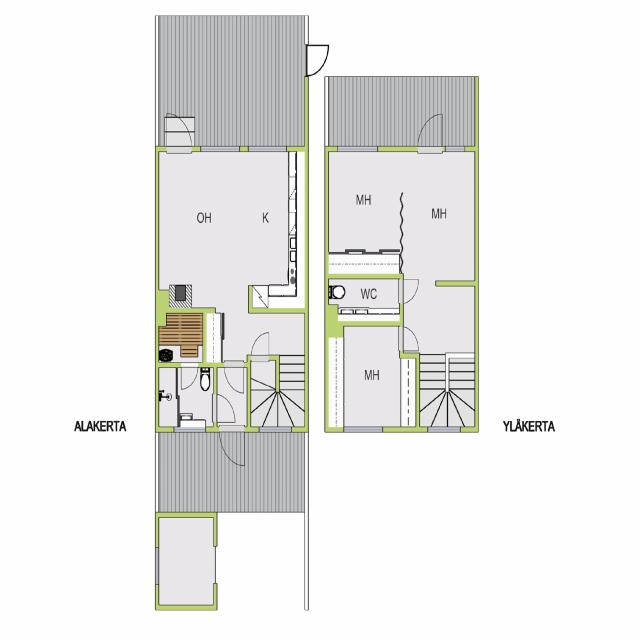door: (219, 427, 245, 469), (166, 110, 192, 152), (418, 112, 442, 152), (304, 46, 330, 76), (213, 394, 237, 422), (224, 362, 243, 394), (399, 326, 420, 352), (252, 330, 268, 361), (181, 362, 198, 391), (399, 279, 419, 303)
